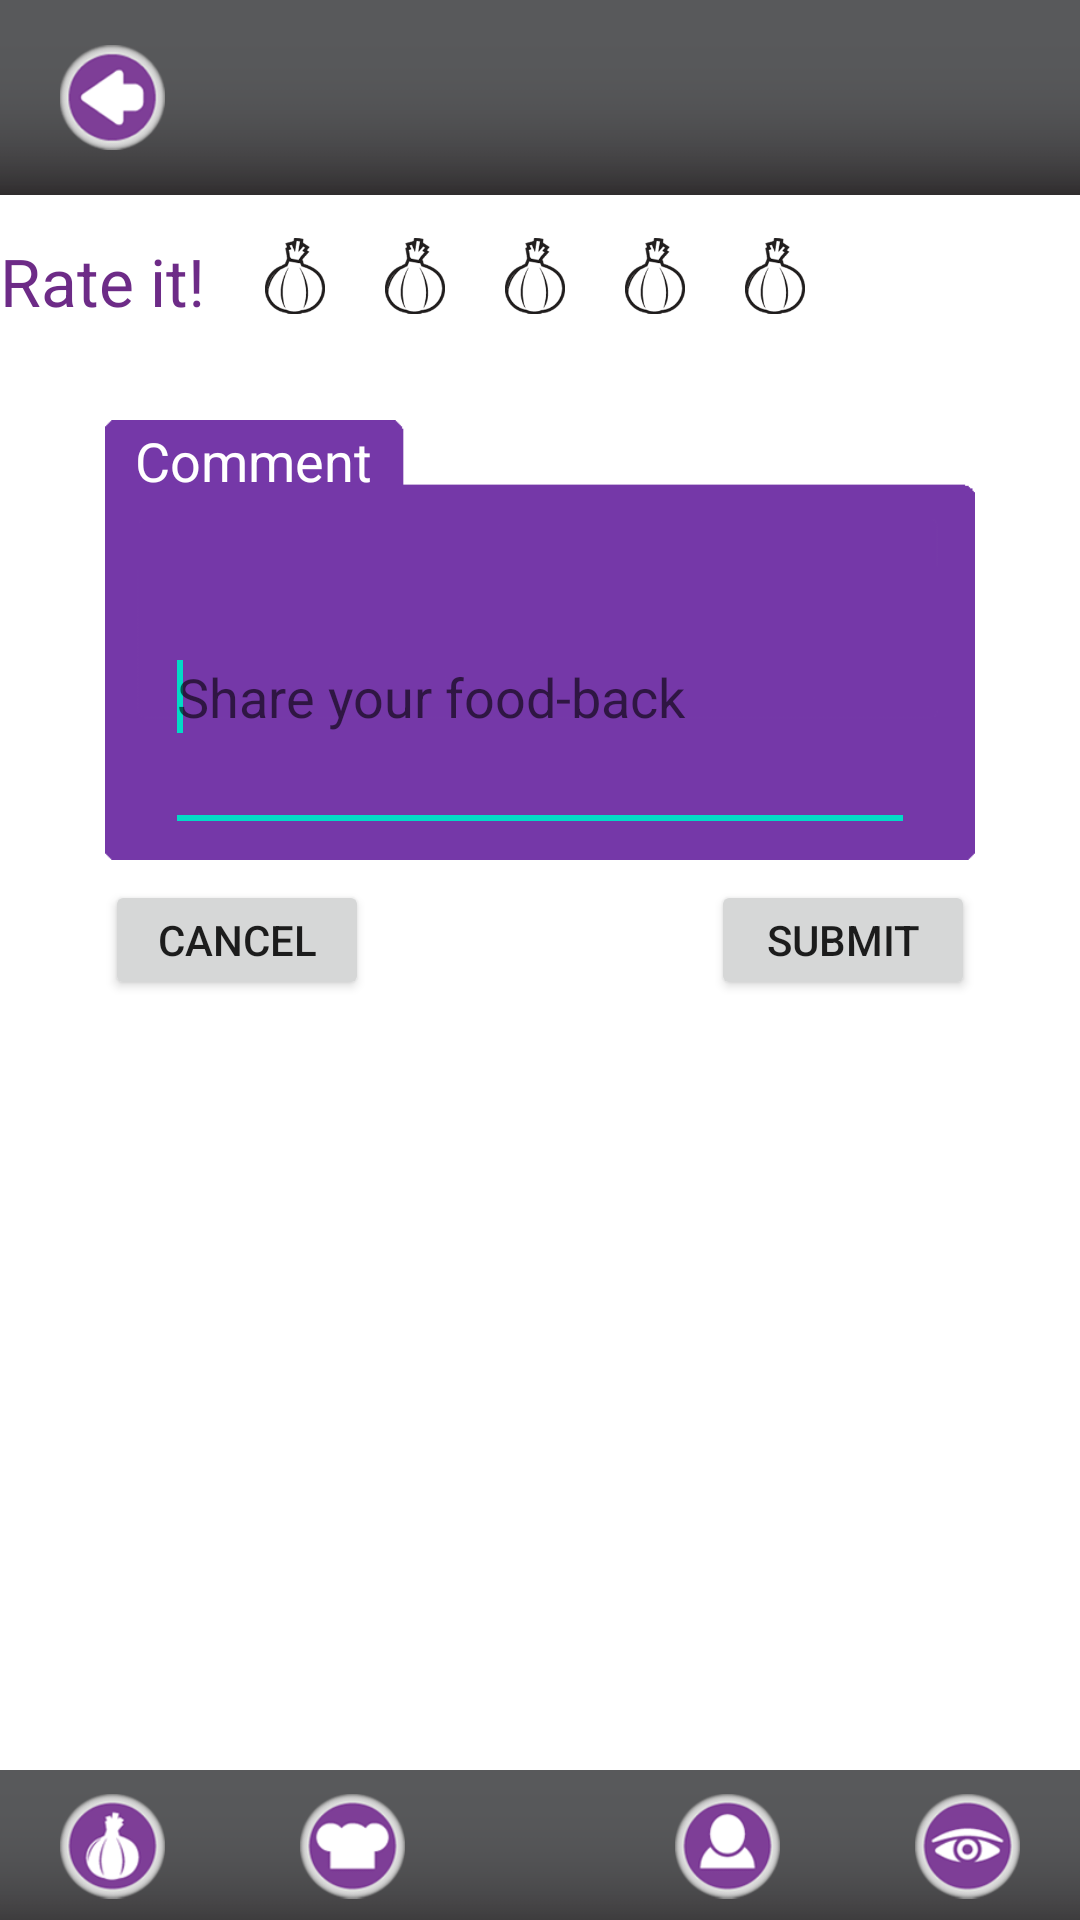

Icons on this 1080w x 1920h Android screen, each with the point to tap as point (x, y):
onion blank: point (295, 276), point (415, 276), point (535, 276), point (655, 276), point (775, 276)
